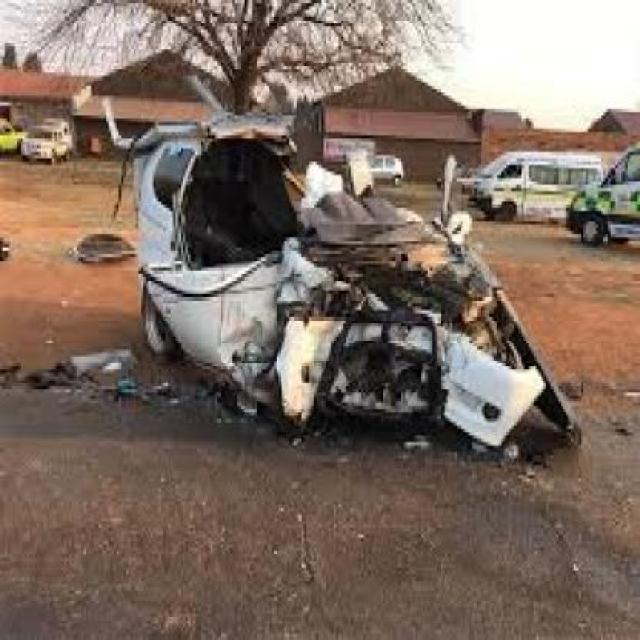accident: (79, 93, 590, 553)
